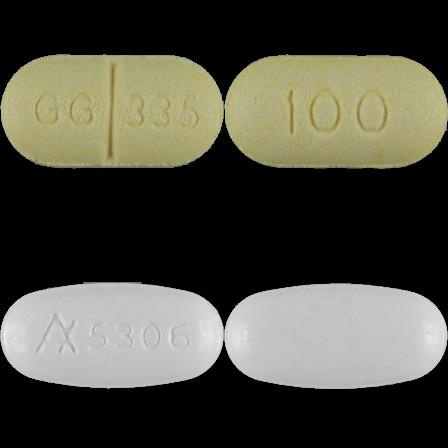68788-6359: (0, 0, 224, 224)
